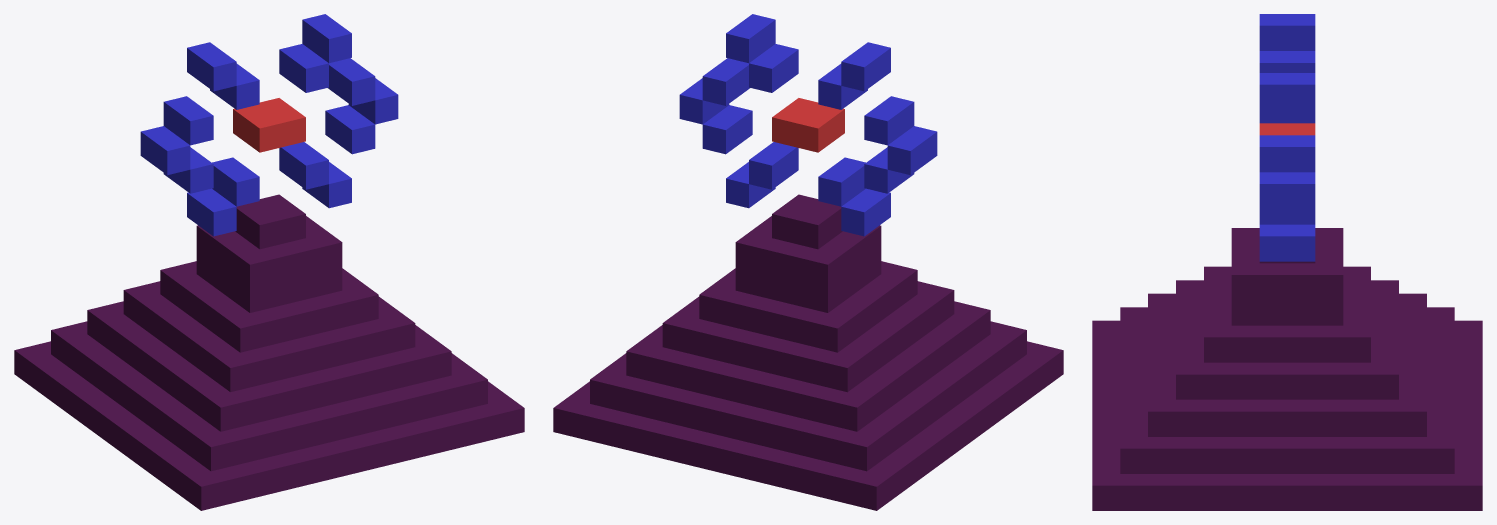
File: DestrutionTower.glb
3 views of the same model, side by side, from view 1: azimuth 30°, elevation 25°; view 2: azimuth 150°, elevation 25°; view 3: azimuth 270°, elevation 25° (orthographic). The views are drawn at different scales.
Visible parts, largest first — view 1: VoxelModel; view 2: VoxelModel; view 3: VoxelModel.
Part boxes in pixels (x1,y1,x2,y2): VoxelModel: [14, 14, 524, 510]; VoxelModel: [553, 14, 1063, 510]; VoxelModel: [1092, 14, 1482, 510].
Size of the model in its own units: 14 by 15 by 14.
